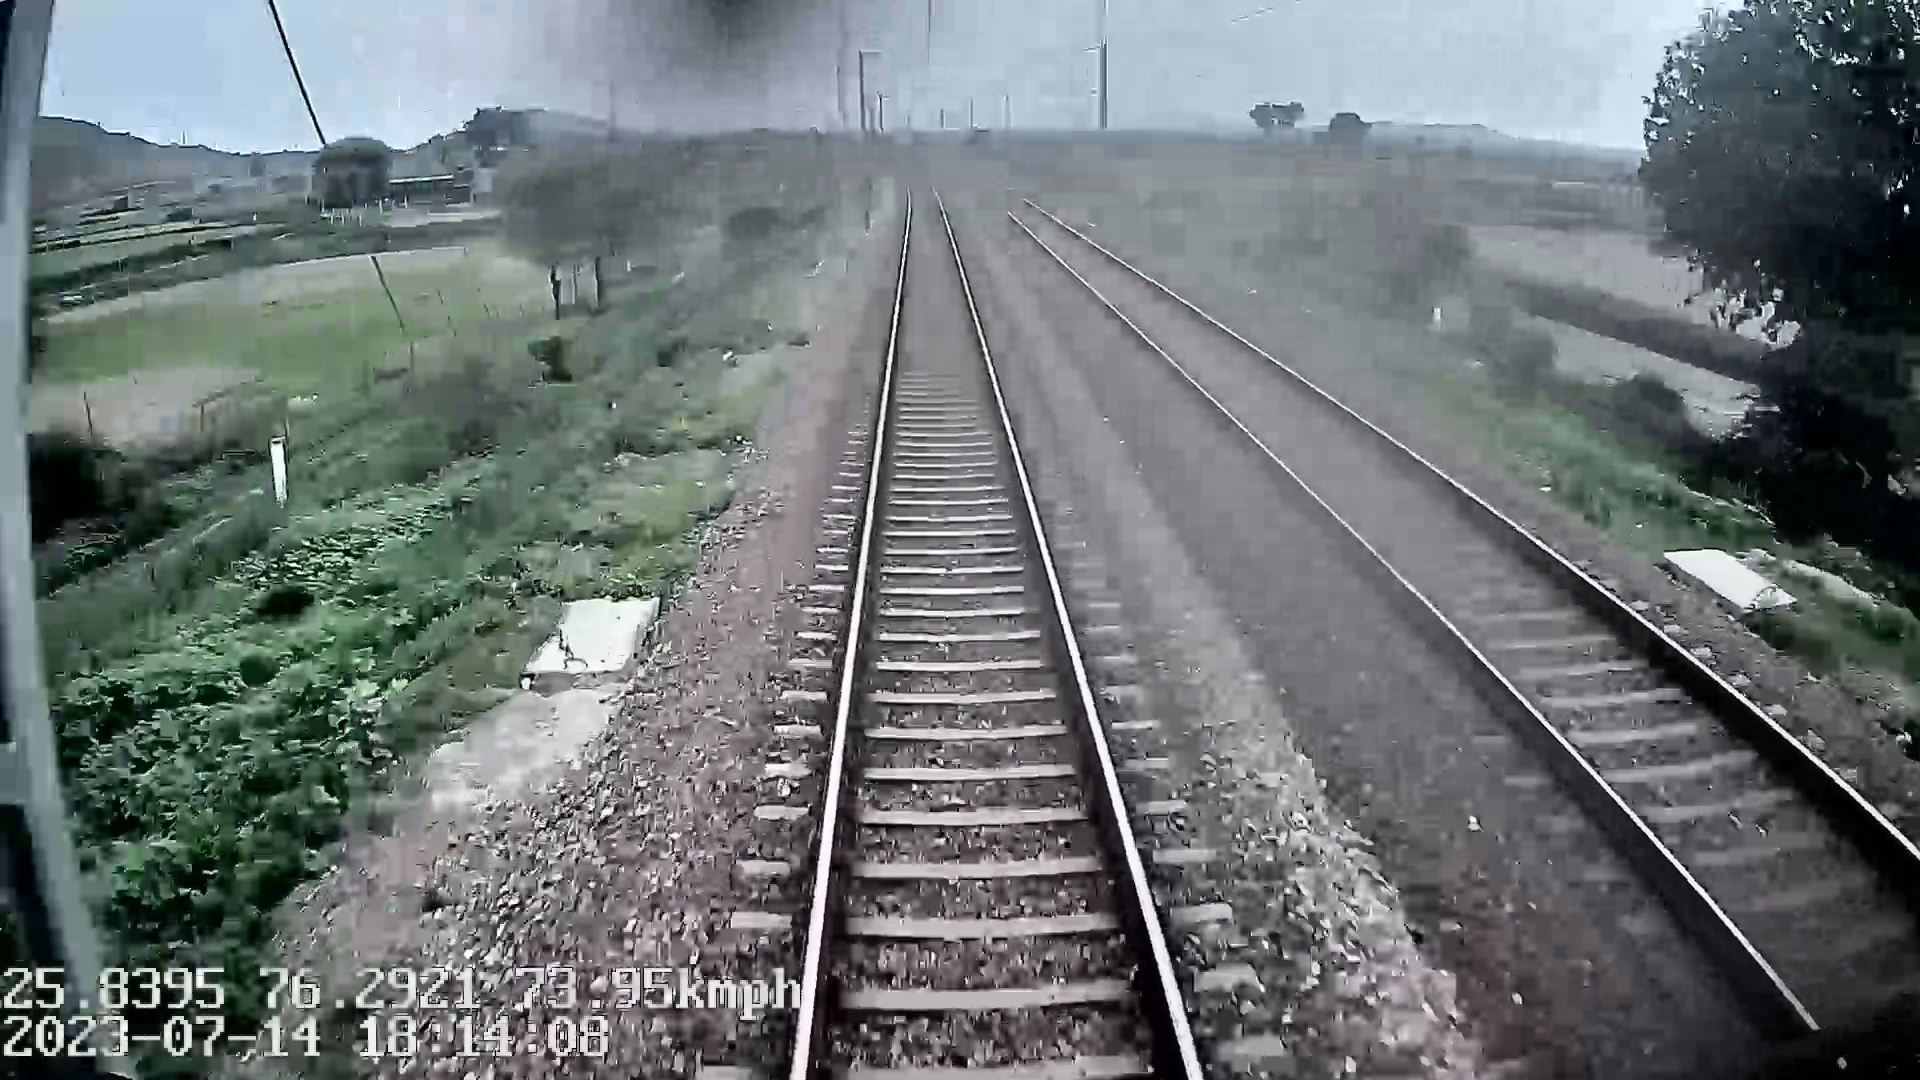track1: (799, 191, 1196, 1075)
track2: (1009, 201, 1919, 1032)
